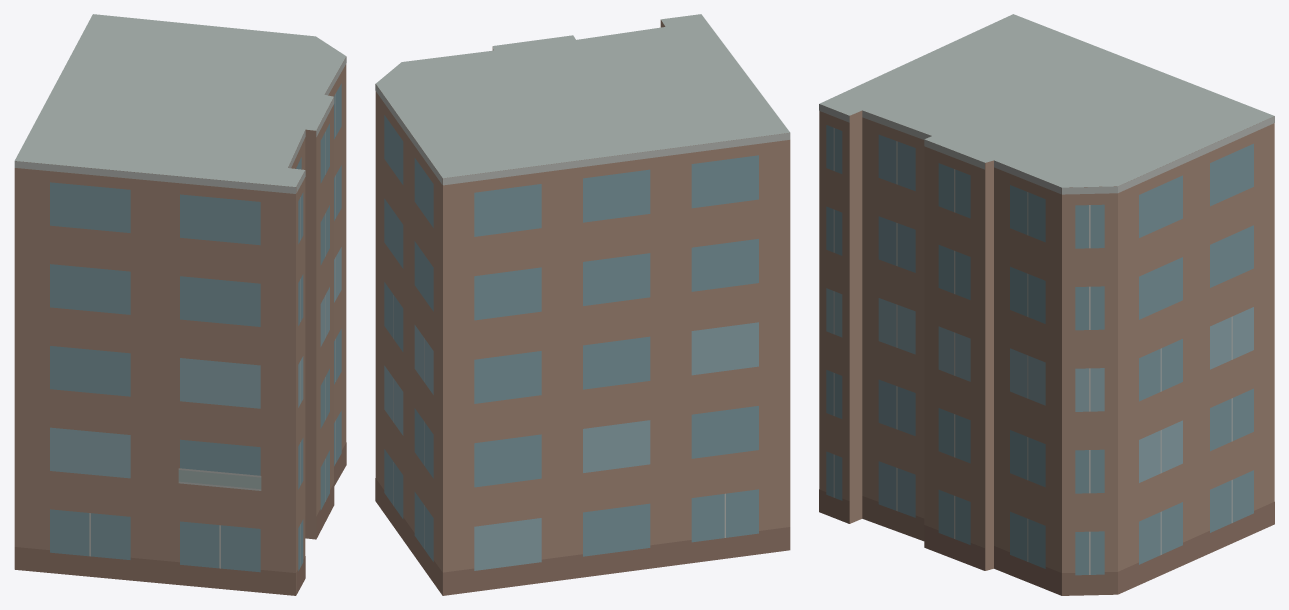
The model's file is survey-upis-32932971.glb.
3 views of the same model, side by side, from view 1: azimuth 30°, elevation 25°; view 2: azimuth 150°, elevation 25°; view 3: azimuth 270°, elevation 25° (orthographic). The views are drawn at different scales.
Parts seen in each view (by area): view 1: survey-upis-32932971.tmp; view 2: survey-upis-32932971.tmp; view 3: survey-upis-32932971.tmp.
Boxes of the visible parts, bbox=[...] form: survey-upis-32932971.tmp: bbox=[14, 14, 346, 595]; survey-upis-32932971.tmp: bbox=[375, 14, 790, 595]; survey-upis-32932971.tmp: bbox=[819, 14, 1274, 595].
Bounding box in the file's own units: 13.1 × 14.35 × 14.52.
